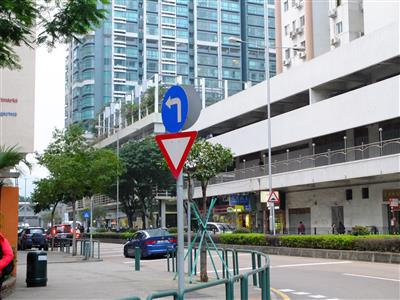bump: (265, 187, 281, 205)
leftTurnOnly: (158, 82, 191, 132)
yield: (151, 129, 201, 178)
